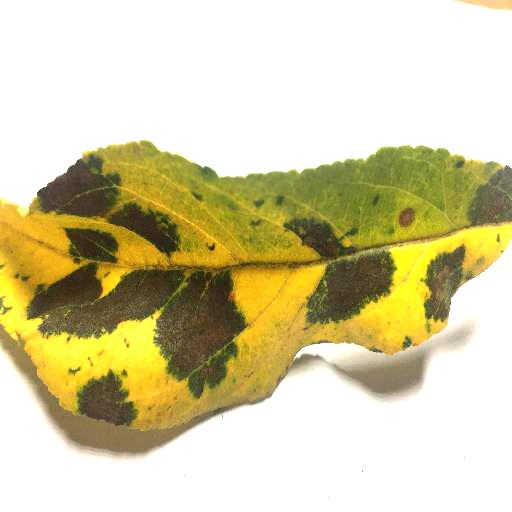Brown_Spot: (24, 277, 167, 346), (167, 292, 228, 377), (315, 259, 393, 321), (74, 370, 139, 427), (37, 167, 114, 212), (114, 206, 183, 255), (419, 251, 459, 319), (291, 223, 354, 259), (478, 178, 512, 228), (398, 209, 415, 228)
